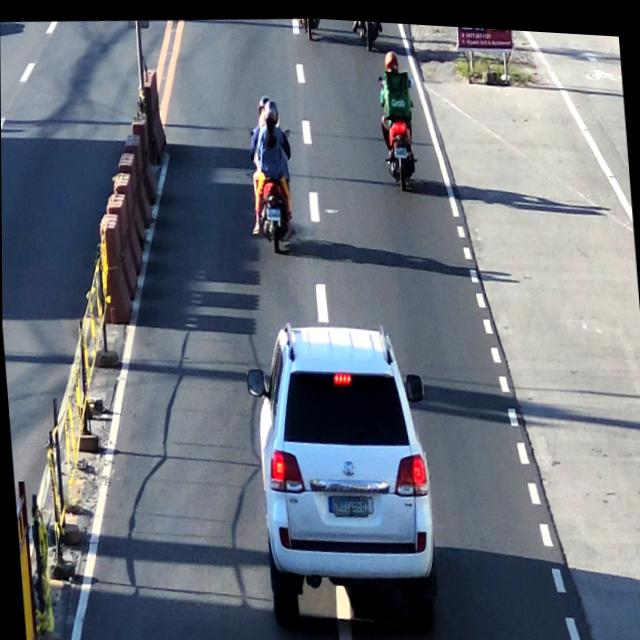Car: (254, 311, 439, 626)
License-Plate: (330, 487, 370, 522), (392, 139, 410, 157), (266, 205, 281, 220)
Motorcycle: (246, 90, 297, 250), (380, 43, 416, 184), (355, 17, 379, 50), (300, 14, 319, 39)
